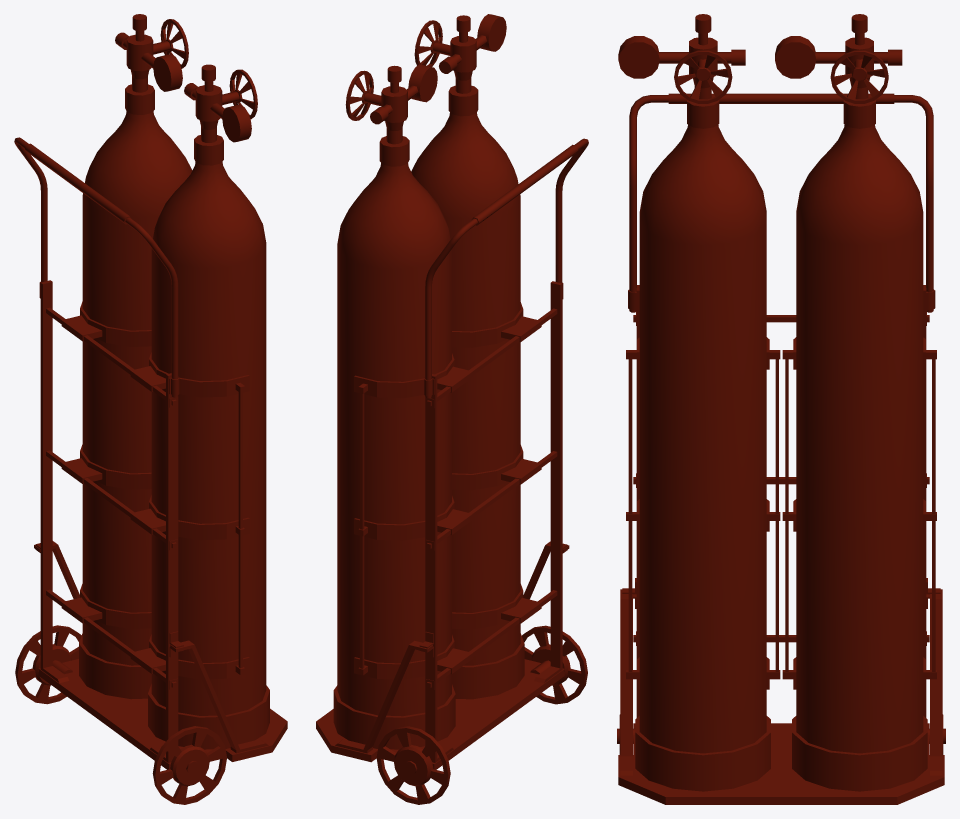
Rendered from gas2.FBX.
3 renders of one model, left to right at view 1: azimuth 30°, elevation 25°; view 2: azimuth 150°, elevation 25°; view 3: azimuth 270°, elevation 25°, orthographic. The views are drawn at different scales.
Parts seen in each view (by area): view 1: gas2; view 2: gas2; view 3: gas2.
Part boxes in pixels (<box>): gas2: <box>14,14,287,804</box>; gas2: <box>316,14,588,804</box>; gas2: <box>617,14,945,804</box>.
Bounding box in the file's own units: 36.25 × 149 × 56.1.
